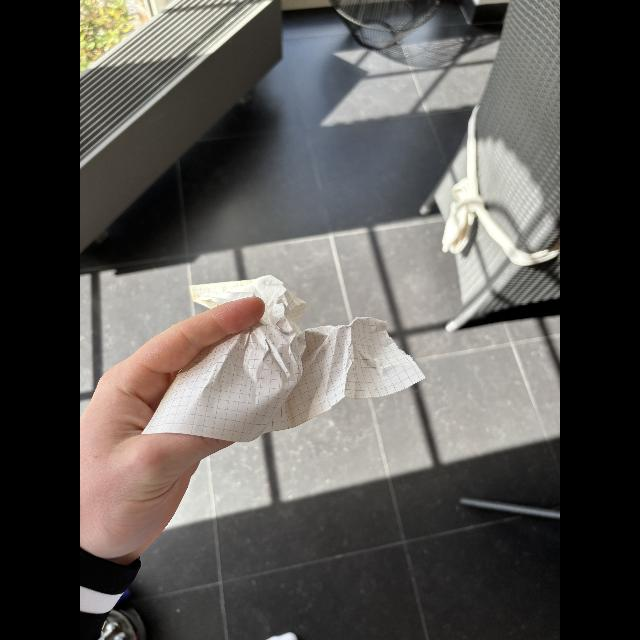Paper: (144, 270, 428, 444)
